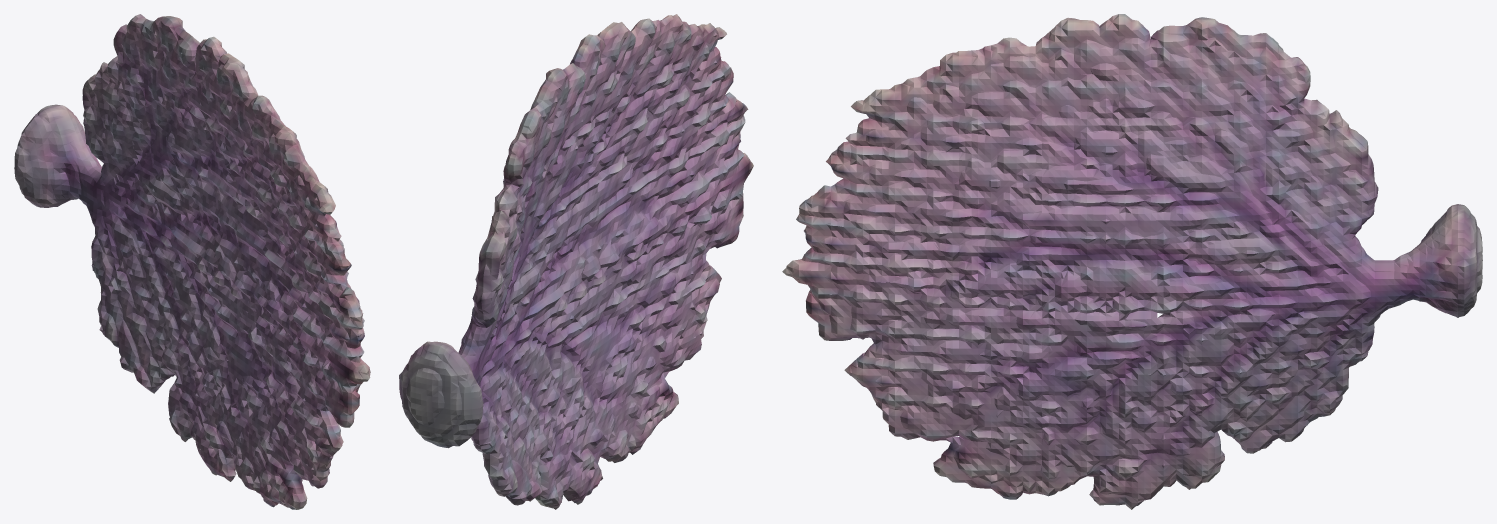
Rendered from coral-sea-fan-triposr-01.glb.
3 renders of one model, left to right at view 1: azimuth 30°, elevation 25°; view 2: azimuth 150°, elevation 25°; view 3: azimuth 270°, elevation 25°, orthographic. The views are drawn at different scales.
Parts seen in each view (by area): view 1: world; view 2: world; view 3: world.
Boxes of the visible parts, box(x1,y1,x2,y2) form: world: box(14, 14, 370, 509); world: box(399, 14, 753, 509); world: box(782, 14, 1482, 509).
Size of the model in its own units: 0.1632 by 0.7707 by 0.9976.
